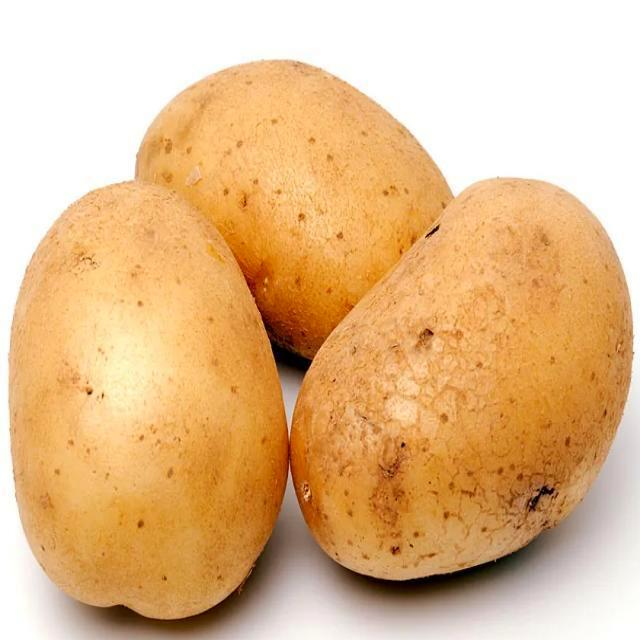potato: (290, 165, 624, 593), (11, 175, 290, 623), (131, 50, 460, 361)
